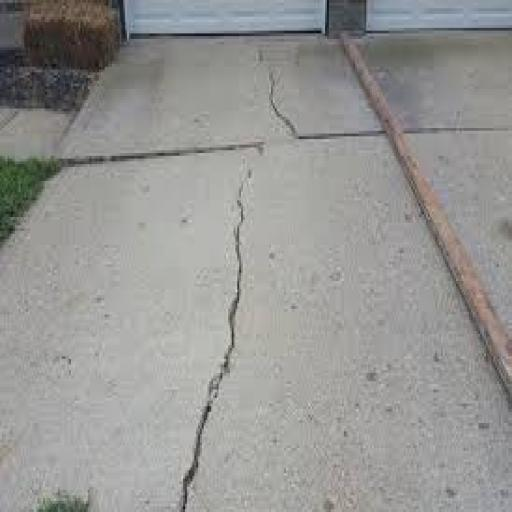spalling: (178, 167, 252, 512), (267, 70, 297, 139)
